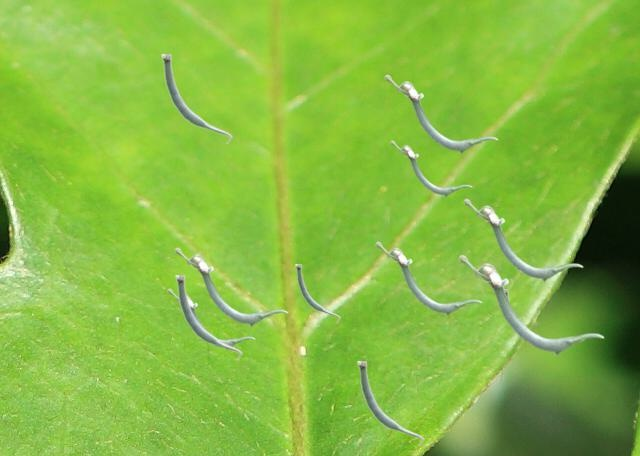french_bean: (458, 254, 603, 355), (463, 198, 582, 281), (384, 74, 497, 153), (174, 247, 287, 326), (375, 241, 481, 315), (161, 54, 231, 143), (175, 275, 241, 359), (357, 361, 423, 445), (167, 288, 254, 349), (390, 140, 471, 196), (295, 264, 339, 321), (505, 289, 509, 299)
